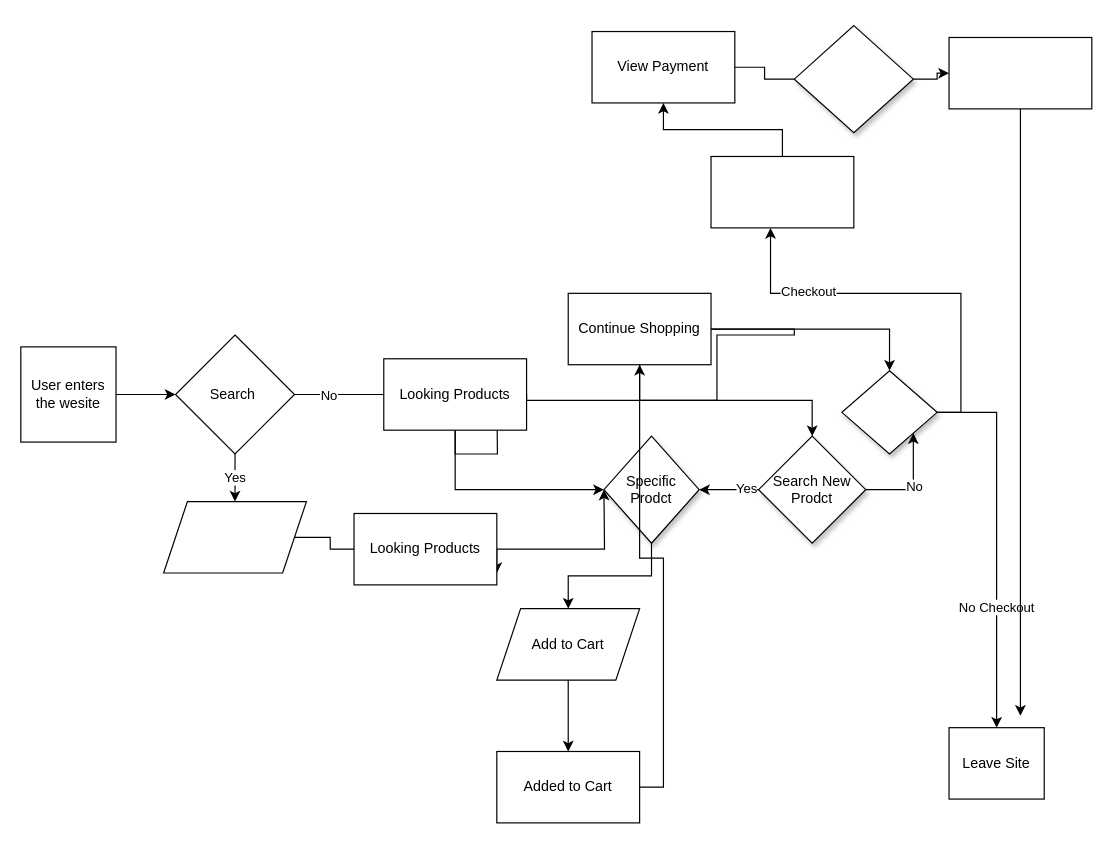
The diagram is 1113 pixels wide and 844 high, and some of its shapes have lost their labels. Each missing label, with the centre of its shape:
"Done Shopping" goes at (890,413).
"Enter Input" goes at (234,536).
"Order Confirmation" goes at (1020,72).
"Payment input" goes at (854,80).
"View Cart" goes at (782,191).
